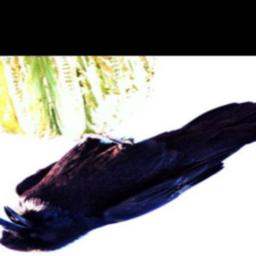Crow: (0, 101, 256, 253)
